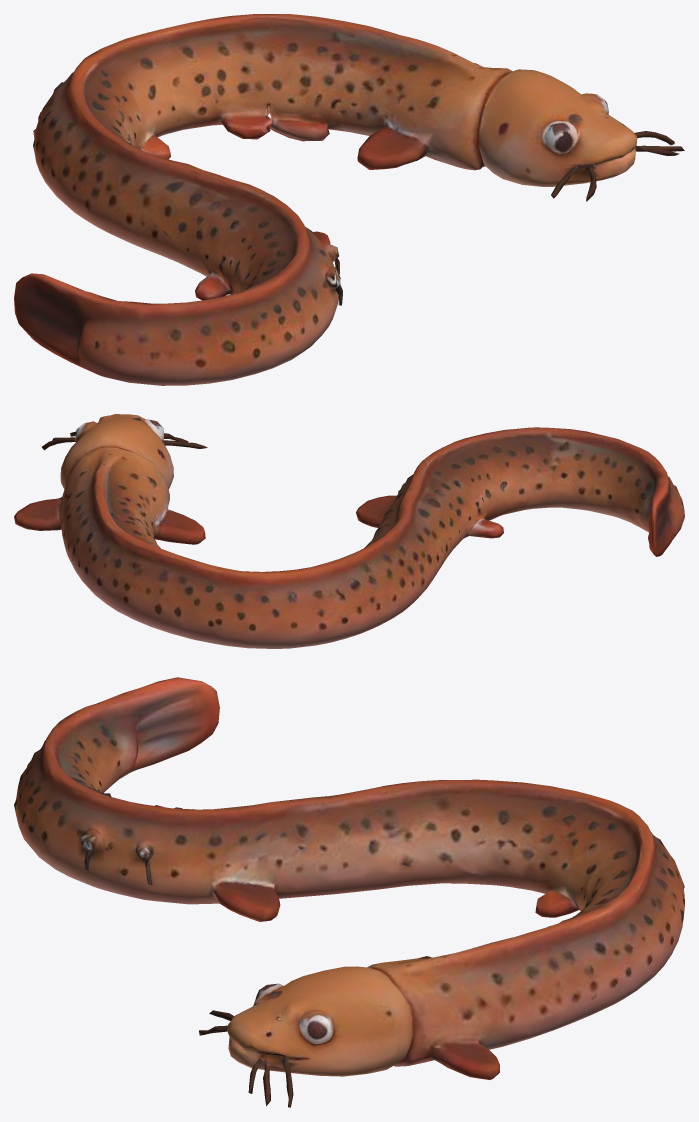
File: loach.glb
The picture shows the model from 3 angles, top to bottom: view 1: azimuth 30°, elevation 25°; view 2: azimuth 150°, elevation 25°; view 3: azimuth 270°, elevation 25°; orthographic projection. The views are drawn at different scales.
Visible parts, largest first — view 1: tripo_node_2546666c-15e5-4cb2-b291-6c3b27e1b01c; view 2: tripo_node_2546666c-15e5-4cb2-b291-6c3b27e1b01c; view 3: tripo_node_2546666c-15e5-4cb2-b291-6c3b27e1b01c.
Part boxes in pixels (x1,y1,x2,y2): tripo_node_2546666c-15e5-4cb2-b291-6c3b27e1b01c: (14,14,684,385); tripo_node_2546666c-15e5-4cb2-b291-6c3b27e1b01c: (14,414,684,648); tripo_node_2546666c-15e5-4cb2-b291-6c3b27e1b01c: (14,677,684,1107).
Bounding box in the file's own units: 1 × 0.1272 × 0.7894.
1 material, 1 textured.
